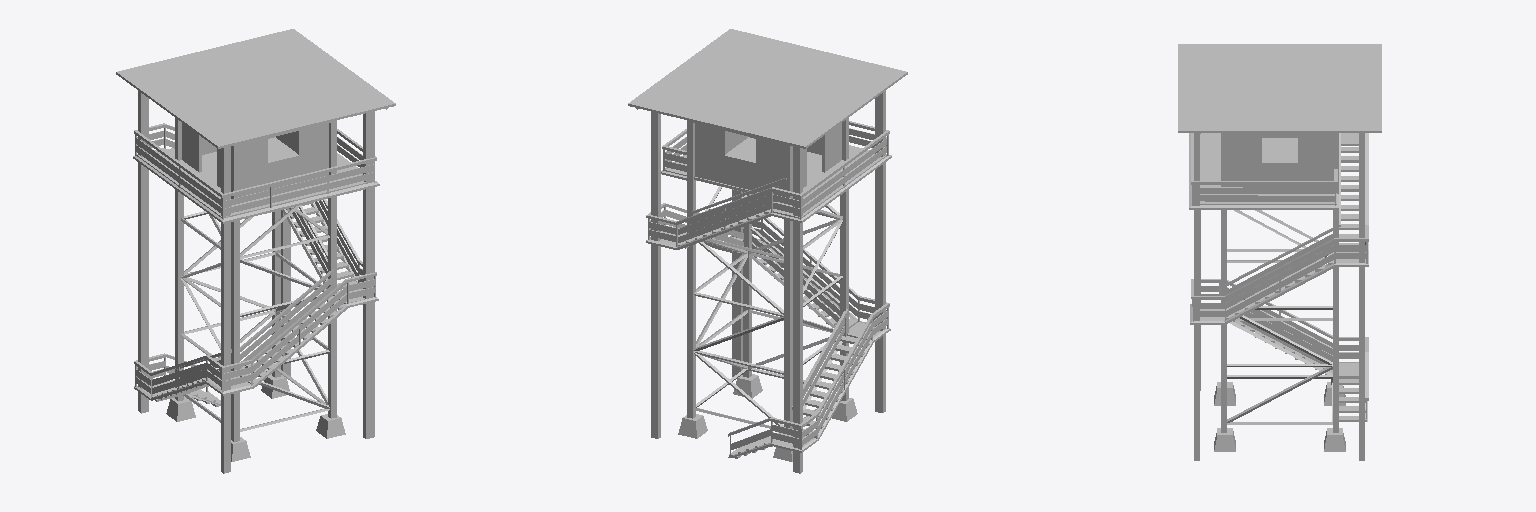
Rendered from wooden watch tower2.obj.
3 renders of one model, left to right at view 1: azimuth 30°, elevation 25°; view 2: azimuth 150°, elevation 25°; view 3: azimuth 270°, elevation 25°, orthographic.
Visible parts, largest first — view 1: default; view 2: default; view 3: default.
Part boxes in pixels (bbox=[...]): default: bbox=[116, 29, 395, 473]; default: bbox=[628, 29, 907, 473]; default: bbox=[1178, 44, 1381, 460].
Size of the model in its own units: 39.04 by 70.73 by 39.04.